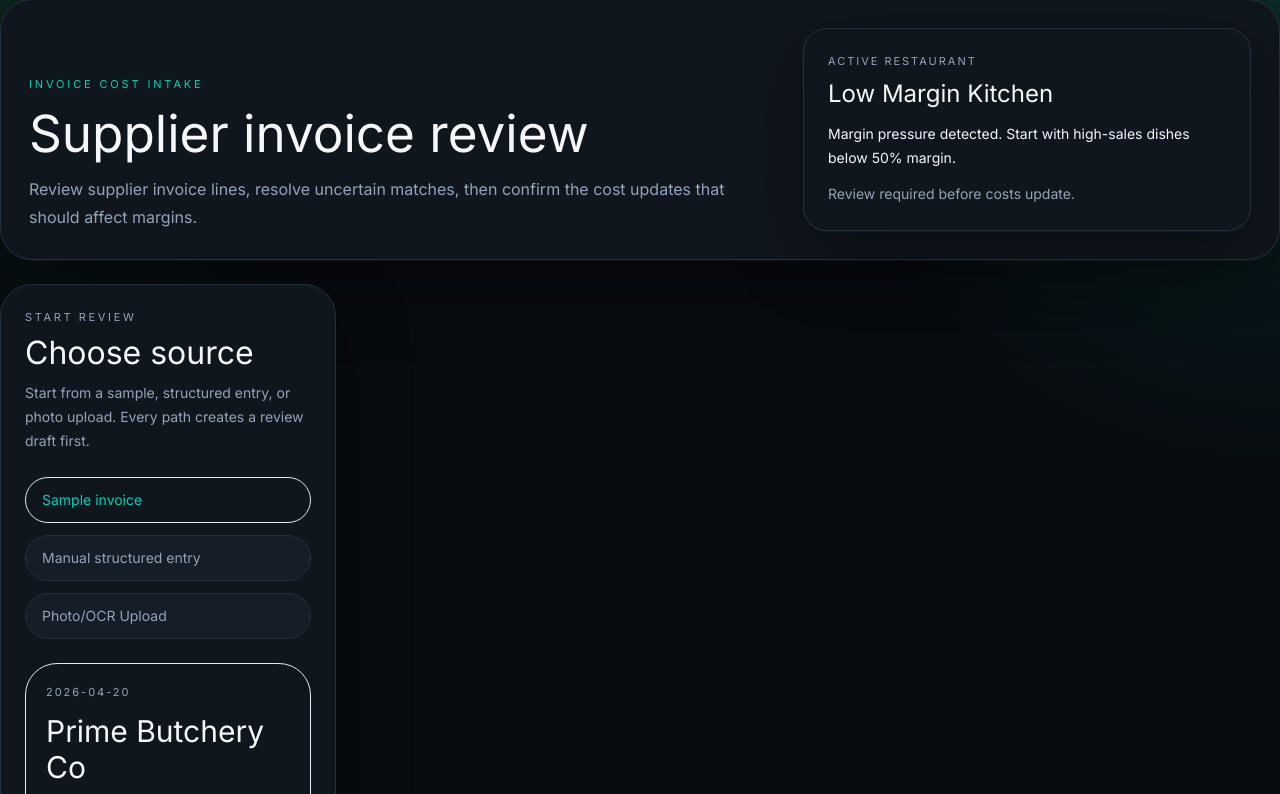
Test case: InvoicesPage › renders OCR provider status and latest OCR jobs
Click the button "Photo/OCR Upload" at (168, 616), box [25, 593, 311, 639]
(page scrolled)
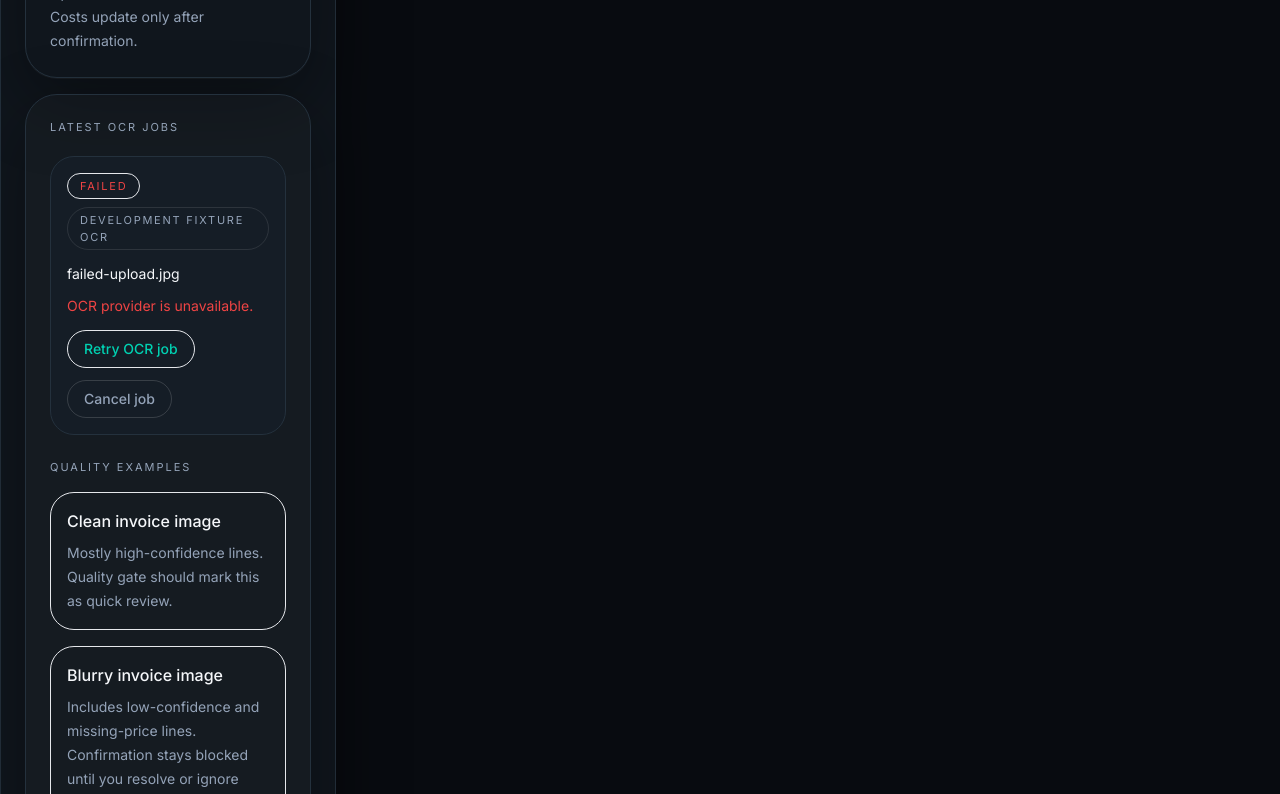
Expected: the text "Latest OCR jobs" is shown, [50, 120, 179, 134]
Expected: the text "failed-upload.jpg" is shown, [67, 265, 180, 282]
Expected: the text "OCR provider is unavailable." is shown, [67, 294, 269, 318]
